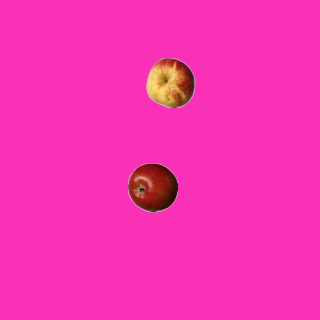Apple Braeburn: (127, 162, 177, 212)
Apple Red Yellow 1: (145, 57, 195, 107)
